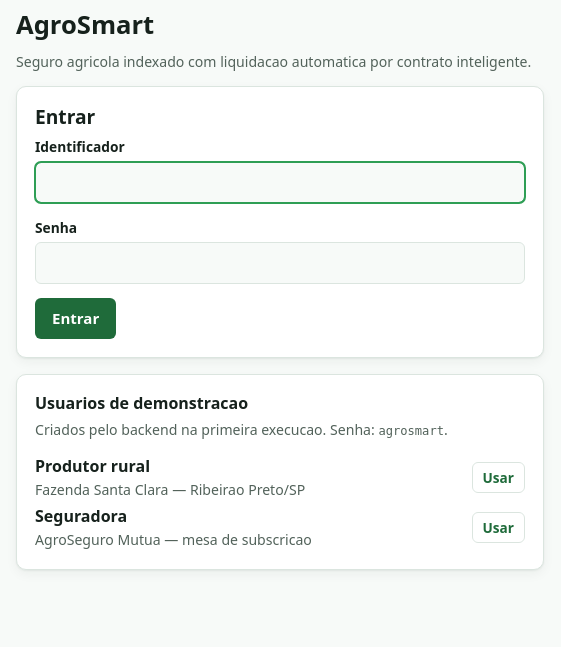
Test case: autenticacao e perfis › senha errada mostra a mensagem do servidor
Type "produtor" into the field labelled "Identificador". click: (280, 182)
box: [35, 162, 525, 203]
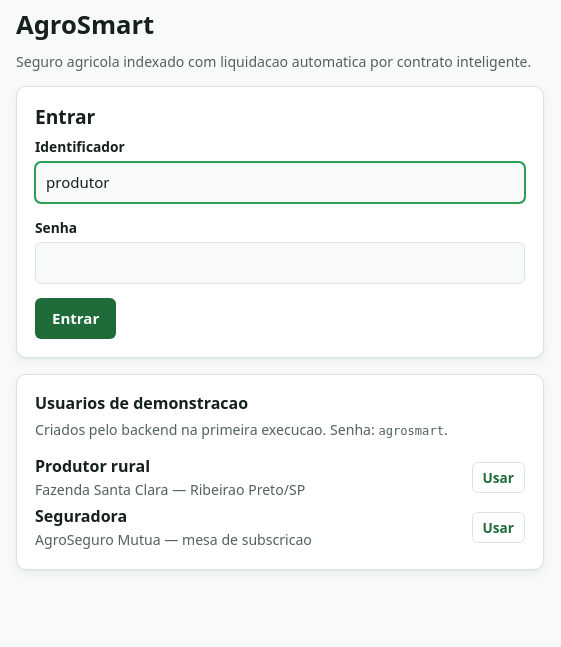
Type "errada" into the password field labelled "Senha". click: (280, 263)
box: [35, 242, 525, 284]
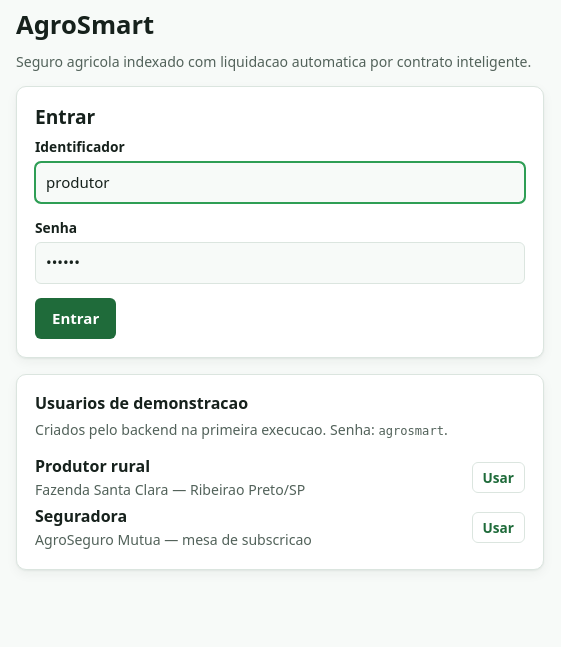
Click the button "Entrar". click: (76, 318)
box: [35, 298, 116, 339]
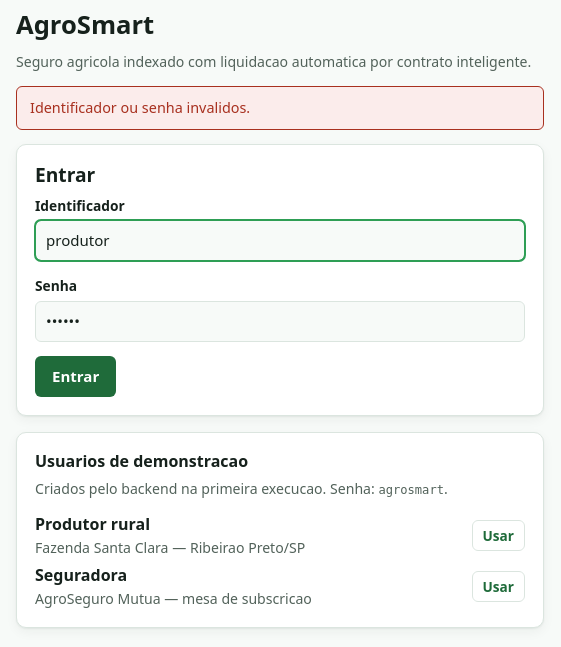
Check: the text "Identificador ou senha invalidos." is shown, box [16, 86, 544, 130]
